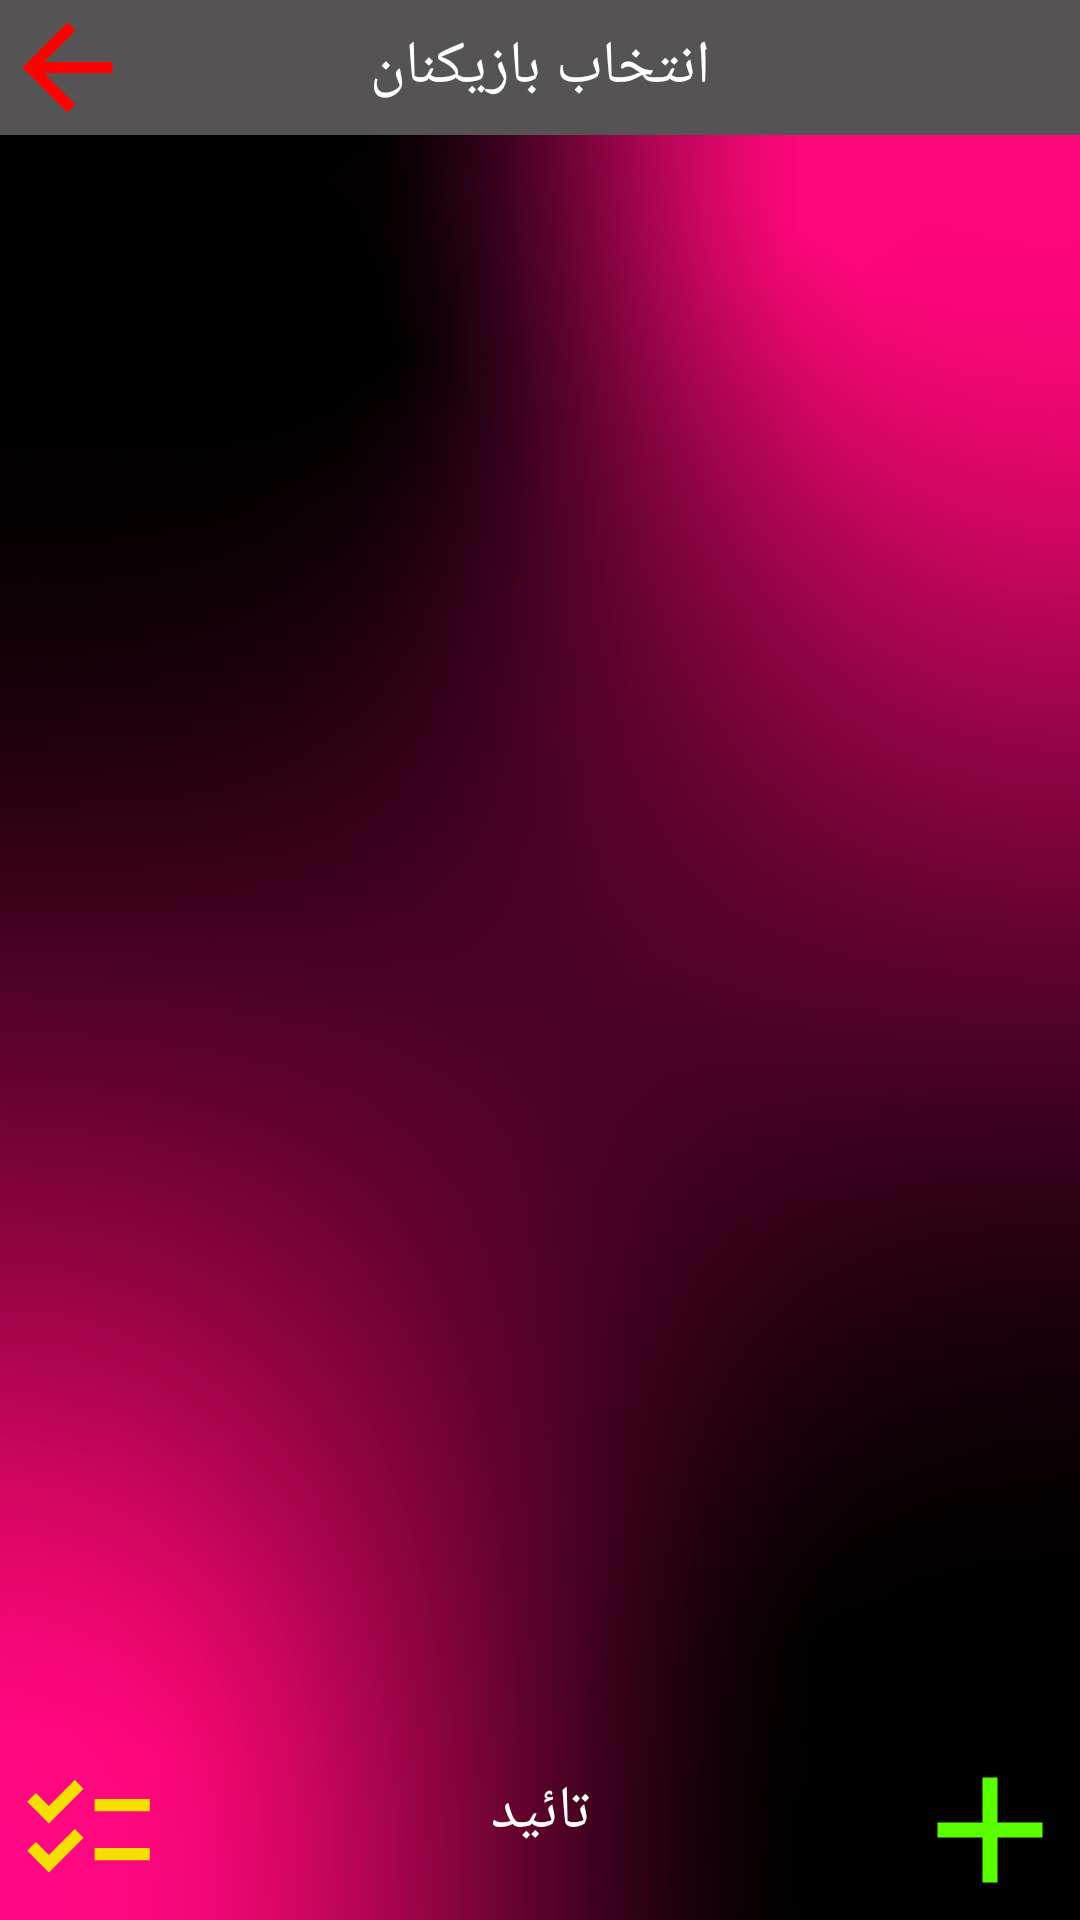

Where icons sit on this 1080x1920 app screen, as (x1, y1, x2, y2):
اضافه کردن بازیکن: (937, 1777, 1043, 1883)
انتخاب همه: (27, 1780, 150, 1873)
برگشت: (22, 22, 113, 113)
